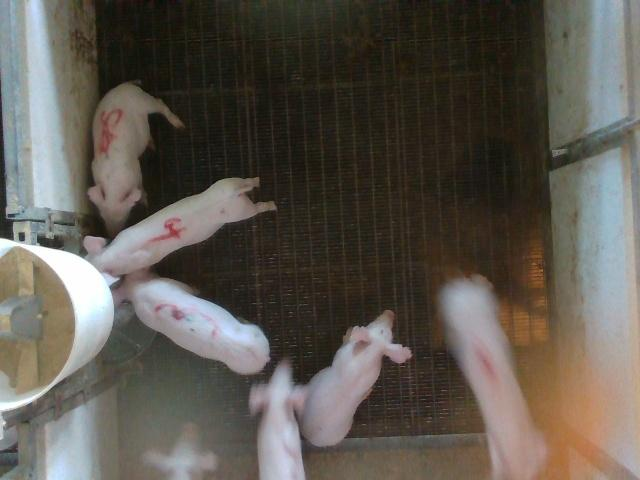pig-1: (439, 275, 548, 478)
pig-3: (112, 269, 270, 374)
pig-4: (84, 179, 275, 284)
pig-5: (88, 82, 184, 237)
